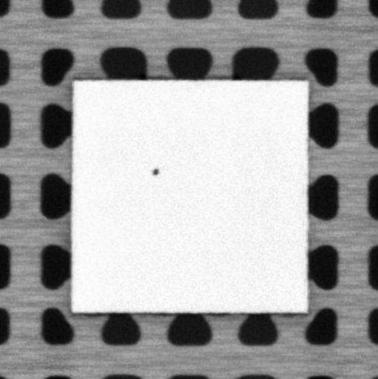DIE_INK: (150, 166, 161, 176)
